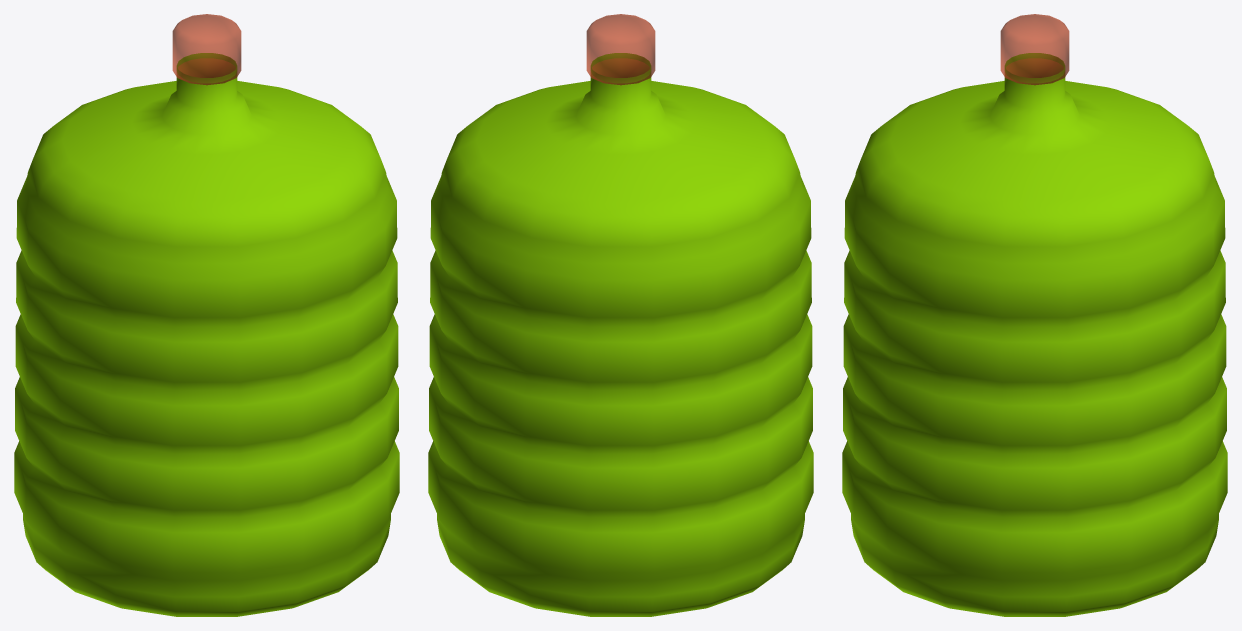
The model's file is SPP_MOD_Water_bottle.fbx.
3 views of the same model, side by side, from view 1: azimuth 30°, elevation 25°; view 2: azimuth 150°, elevation 25°; view 3: azimuth 270°, elevation 25° (orthographic).
Visible parts, largest first — view 1: SPP_MOD_Water_bottle; view 2: SPP_MOD_Water_bottle; view 3: SPP_MOD_Water_bottle.
Boxes of the visible parts, x1=… form: SPP_MOD_Water_bottle: x1=14, y1=14, x2=399, y2=616; SPP_MOD_Water_bottle: x1=428, y1=14, x2=813, y2=616; SPP_MOD_Water_bottle: x1=842, y1=14, x2=1227, y2=616.
Size of the model in its own units: 0.3509 by 0.5296 by 0.3563.
